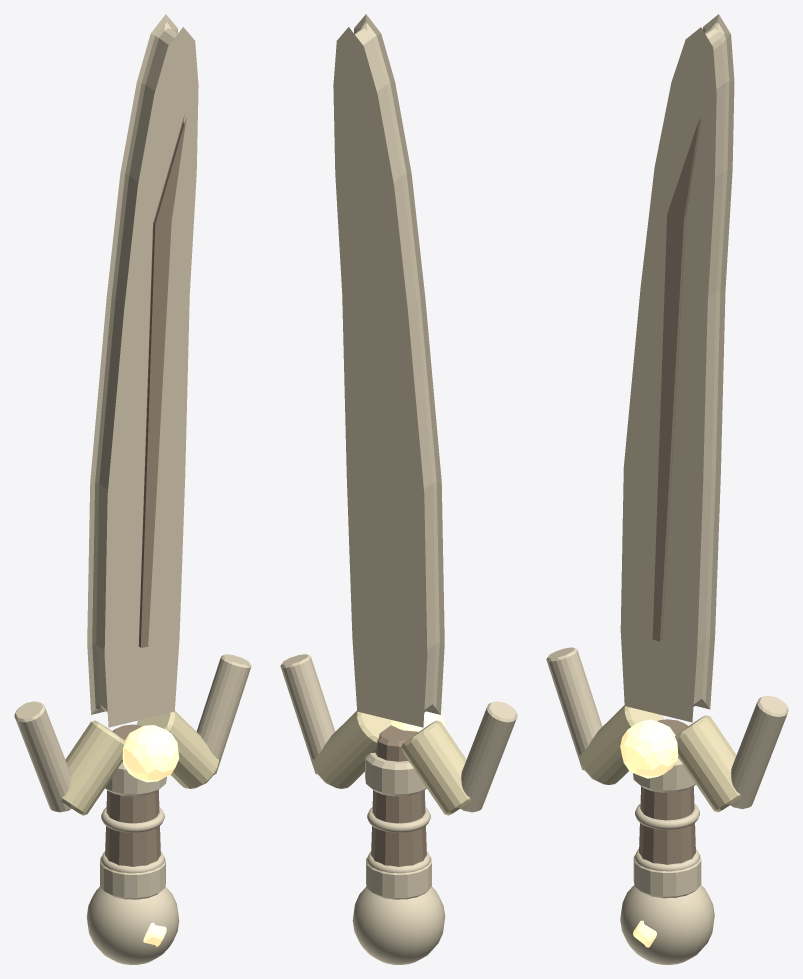
The model's file is assassin-sword-04-sandshade.glb.
The picture shows the model from 3 angles, left to right: view 1: azimuth 30°, elevation 25°; view 2: azimuth 150°, elevation 25°; view 3: azimuth 330°, elevation 25°; orthographic projection. The views are drawn at different scales.
Visible parts, largest first — view 1: assassin-sword-04-sandshade_ForgedBlade, assassin-sword-04-sandshade_ColoredFuller, assassin-sword-04-sandshade_Pommel, assassin-sword-04-sandshade_Guard_Left, assassin-sword-04-sandshade_LeatherGrip, assassin-sword-04-sandshade_Guard_LeftTip, assassin-sword-04-sandshade_Guard_RightTip, assassin-sword-04-sandshade_Guard_Right, assassin-sword-04-sandshade_GuardGem, assassin-sword-04-sandshade_LowerFerrule, assassin-sword-04-sandshade_UpperFerrule, assassin-sword-04-sandshade_GripBinding_2 (+1 smaller); view 2: assassin-sword-04-sandshade_ForgedBlade, assassin-sword-04-sandshade_Pommel, assassin-sword-04-sandshade_LeatherGrip, assassin-sword-04-sandshade_Guard_Left, assassin-sword-04-sandshade_Guard_Right, assassin-sword-04-sandshade_Guard_LeftTip, assassin-sword-04-sandshade_Guard_RightTip, assassin-sword-04-sandshade_UpperFerrule, assassin-sword-04-sandshade_LowerFerrule, assassin-sword-04-sandshade_GripBinding_2, assassin-sword-04-sandshade_GripBinding_1; view 3: assassin-sword-04-sandshade_ForgedBlade, assassin-sword-04-sandshade_ColoredFuller, assassin-sword-04-sandshade_Pommel, assassin-sword-04-sandshade_Guard_Right, assassin-sword-04-sandshade_LeatherGrip, assassin-sword-04-sandshade_Guard_RightTip, assassin-sword-04-sandshade_Guard_LeftTip, assassin-sword-04-sandshade_Guard_Left, assassin-sword-04-sandshade_GuardGem, assassin-sword-04-sandshade_LowerFerrule, assassin-sword-04-sandshade_UpperFerrule, assassin-sword-04-sandshade_GripBinding_2 (+1 smaller).
Boxes of the visible parts, box(x1,y1,x2,y2) form: assassin-sword-04-sandshade_ForgedBlade: box(87, 14, 198, 727); assassin-sword-04-sandshade_ColoredFuller: box(138, 115, 186, 647); assassin-sword-04-sandshade_Pommel: box(86, 886, 179, 964); assassin-sword-04-sandshade_Guard_Left: box(61, 720, 125, 815); assassin-sword-04-sandshade_LeatherGrip: box(105, 724, 160, 866); assassin-sword-04-sandshade_Guard_LeftTip: box(14, 701, 71, 812); assassin-sword-04-sandshade_Guard_RightTip: box(196, 654, 251, 774); assassin-sword-04-sandshade_Guard_Right: box(136, 711, 218, 788); assassin-sword-04-sandshade_GuardGem: box(122, 725, 179, 782); assassin-sword-04-sandshade_LowerFerrule: box(100, 856, 165, 899); assassin-sword-04-sandshade_UpperFerrule: box(105, 762, 166, 796); assassin-sword-04-sandshade_GripBinding_2: box(101, 807, 164, 832); assassin-sword-04-sandshade_ForgedBlade: box(333, 14, 444, 727); assassin-sword-04-sandshade_Pommel: box(352, 886, 445, 964); assassin-sword-04-sandshade_LeatherGrip: box(371, 725, 426, 866); assassin-sword-04-sandshade_Guard_Left: box(401, 720, 470, 815); assassin-sword-04-sandshade_Guard_Right: box(313, 711, 391, 788); assassin-sword-04-sandshade_Guard_LeftTip: box(460, 701, 517, 812); assassin-sword-04-sandshade_Guard_RightTip: box(280, 654, 335, 774); assassin-sword-04-sandshade_UpperFerrule: box(365, 752, 426, 796); assassin-sword-04-sandshade_LowerFerrule: box(366, 856, 431, 899); assassin-sword-04-sandshade_GripBinding_2: box(367, 807, 430, 832); assassin-sword-04-sandshade_GripBinding_1: box(367, 851, 430, 873); assassin-sword-04-sandshade_ForgedBlade: box(620, 14, 734, 722); assassin-sword-04-sandshade_ColoredFuller: box(652, 117, 701, 641); assassin-sword-04-sandshade_Pommel: box(620, 885, 714, 964); assassin-sword-04-sandshade_Guard_Right: box(675, 715, 740, 812); assassin-sword-04-sandshade_LeatherGrip: box(639, 719, 695, 864); assassin-sword-04-sandshade_Guard_RightTip: box(730, 695, 788, 808); assassin-sword-04-sandshade_Guard_LeftTip: box(546, 647, 602, 770); assassin-sword-04-sandshade_Guard_Left: box(579, 705, 663, 784); assassin-sword-04-sandshade_GuardGem: box(620, 719, 678, 778); assassin-sword-04-sandshade_LowerFerrule: box(633, 854, 701, 898); assassin-sword-04-sandshade_UpperFerrule: box(633, 758, 695, 792); assassin-sword-04-sandshade_GripBinding_2: box(635, 804, 699, 829).
Bounding box in the file's own units: 0.3692 × 1.41 × 0.15.
